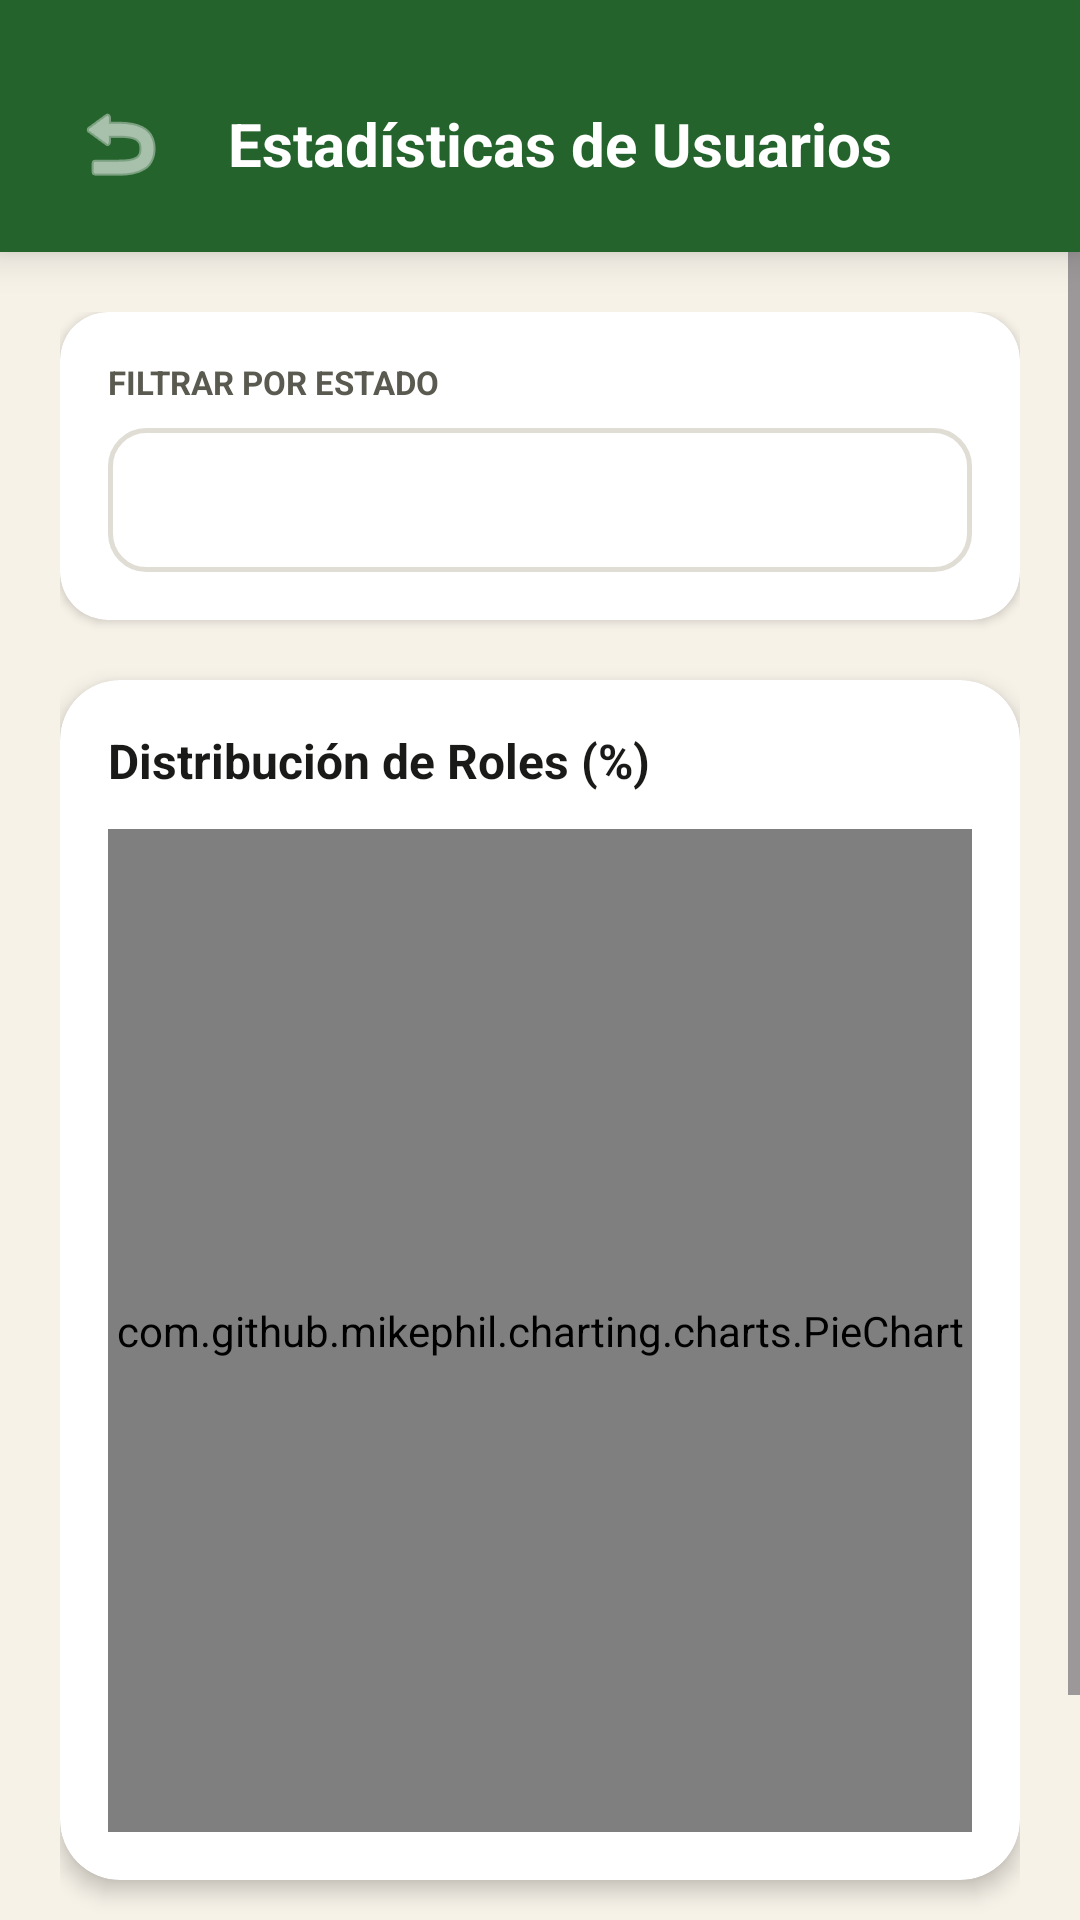

Where to tap for icons on this 1080x1920 app screen, as [x,y]:
Volver: [121,144]
